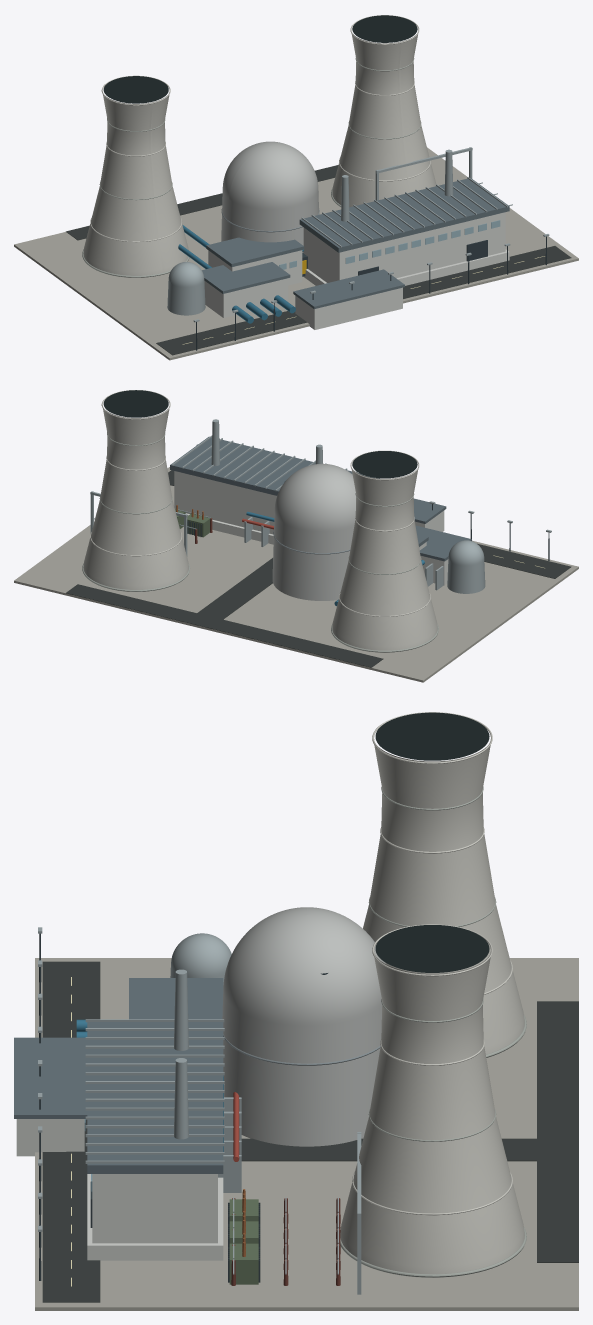
File: nuclear_plant.glb
3 views of the same model, one above another, from view 1: azimuth 30°, elevation 25°; view 2: azimuth 150°, elevation 25°; view 3: azimuth 270°, elevation 25° (orthographic). The views are drawn at different scales.
Visible parts, largest first — view 1: Main Concrete Plant Pad, North Hyperbolic Concrete Shell, South Hyperbolic Concrete Shell, Turbine Hall Main Volume, Turbine Hall Metal Roof, Containment Concrete Dome, East West Service Road, Containment Reinforced Concrete Wall, Administration Building, Administration Roof, Cooling Water Pump House, Annex Roof (+8 smaller); view 2: Main Concrete Plant Pad, South Hyperbolic Concrete Shell, North Hyperbolic Concrete Shell, Containment Reinforced Concrete Wall, Containment Concrete Dome, Cooling Tower Access Road, Turbine Hall Metal Roof, Turbine Hall Main Volume, North South Service Road, East West Service Road, North Tower Opening, South Tower Opening (+7 smaller); view 3: Main Concrete Plant Pad, South Hyperbolic Concrete Shell, North Hyperbolic Concrete Shell, Containment Reinforced Concrete Wall, Containment Concrete Dome, Turbine Hall Metal Roof, East West Service Road, Cooling Tower Access Road, Turbine Hall Main Volume, Administration Roof, North Tower Opening, South Tower Opening (+10 smaller).
Part boxes in pixels (x1,y1,x2,y2): Main Concrete Plant Pad: (14,147,578,360); North Hyperbolic Concrete Shell: (83,92,188,277); South Hyperbolic Concrete Shell: (332,32,436,207); Turbine Hall Main Volume: (303,212,505,282); Turbine Hall Metal Roof: (299,178,509,252); Containment Concrete Dome: (222,141,318,209); East West Service Road: (156,246,571,355); Containment Reinforced Concrete Wall: (221,191,319,252); Administration Building: (295,287,402,329); Administration Roof: (293,269,404,309); Cooling Water Pump House: (204,278,288,317); Annex Roof: (206,237,304,267); Main Concrete Plant Pad: (14,467,578,682); South Hyperbolic Concrete Shell: (83,406,188,591); North Hyperbolic Concrete Shell: (332,467,437,652); Containment Reinforced Concrete Wall: (272,513,353,600); Containment Concrete Dome: (274,463,356,531); Cooling Tower Access Road: (66,584,383,667); Turbine Hall Metal Roof: (170,436,379,495); Turbine Hall Main Volume: (174,471,276,534); North South Service Road: (197,558,272,619); East West Service Road: (168,470,571,578); North Tower Opening: (352,451,417,478); South Tower Opening: (103,390,168,417); Main Concrete Plant Pad: (35,958,578,1310); South Hyperbolic Concrete Shell: (340,952,524,1277); North Hyperbolic Concrete Shell: (363,740,524,1054); Containment Reinforced Concrete Wall: (222,993,381,1146); Containment Concrete Dome: (223,907,385,1026); Turbine Hall Metal Roof: (87,1022,223,1173); East West Service Road: (42,961,100,1302); Cooling Tower Access Road: (537,1001,578,1262); Turbine Hall Main Volume: (92,1174,217,1243); Administration Roof: (14,1037,87,1118); North Tower Opening: (375,712,489,760); South Tower Opening: (375,925,489,972).
Bounding box in the file's own units: 158 × 62 × 108.
